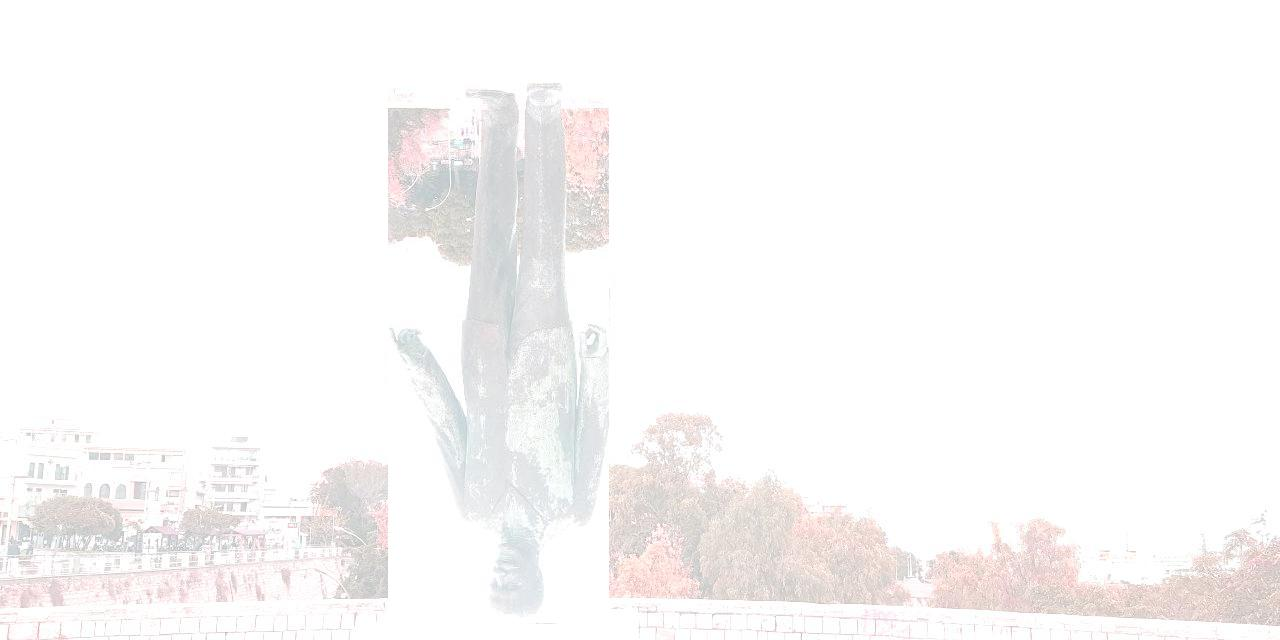Venizelos: (389, 84, 610, 624)
